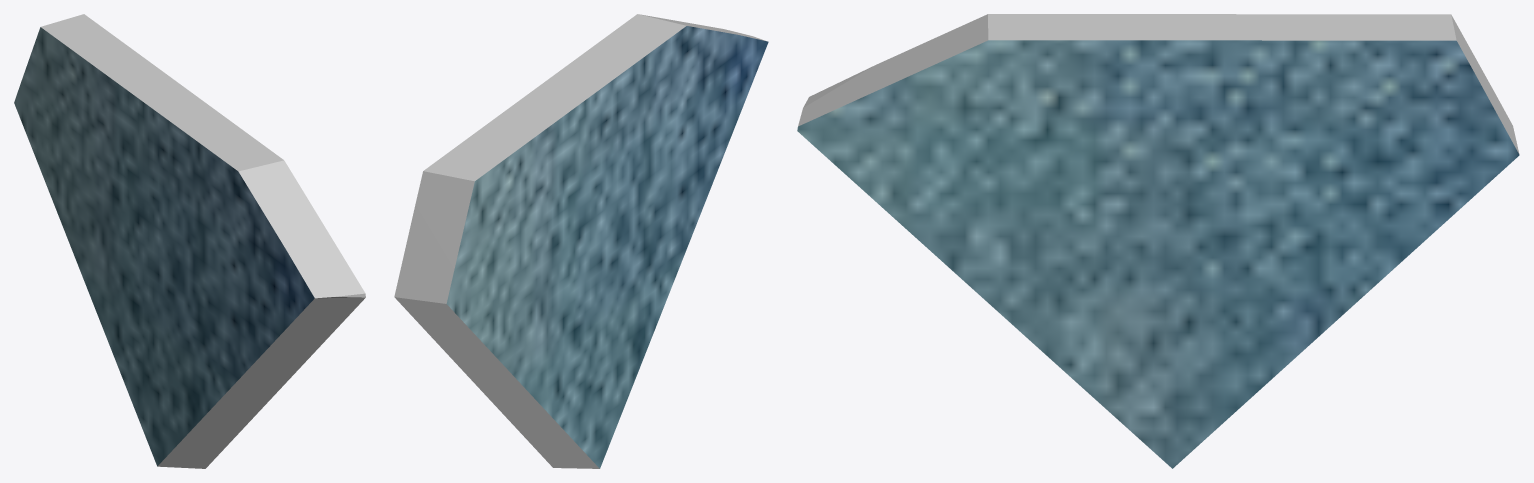
3 views of the same model, side by side, from view 1: azimuth 30°, elevation 25°; view 2: azimuth 150°, elevation 25°; view 3: azimuth 270°, elevation 25° (orthographic). The views are drawn at different scales.
Visible parts, largest first — view 1: Cube_cell.004_Mesh.004; view 2: Cube_cell.004_Mesh.004; view 3: Cube_cell.004_Mesh.004.
Boxes of the visible parts, bbox=[...] form: Cube_cell.004_Mesh.004: bbox=[14, 14, 365, 468]; Cube_cell.004_Mesh.004: bbox=[394, 14, 768, 468]; Cube_cell.004_Mesh.004: bbox=[797, 14, 1519, 468].
Size of the model in its own units: 0.0832 by 0.633 by 0.9667.
